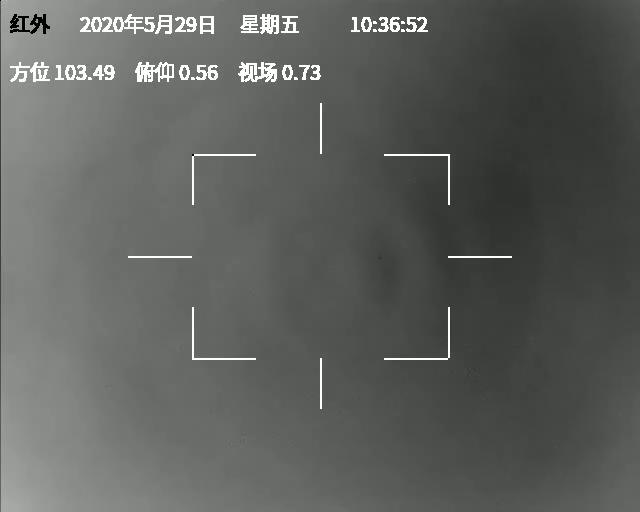uav: (377, 255, 384, 261)
